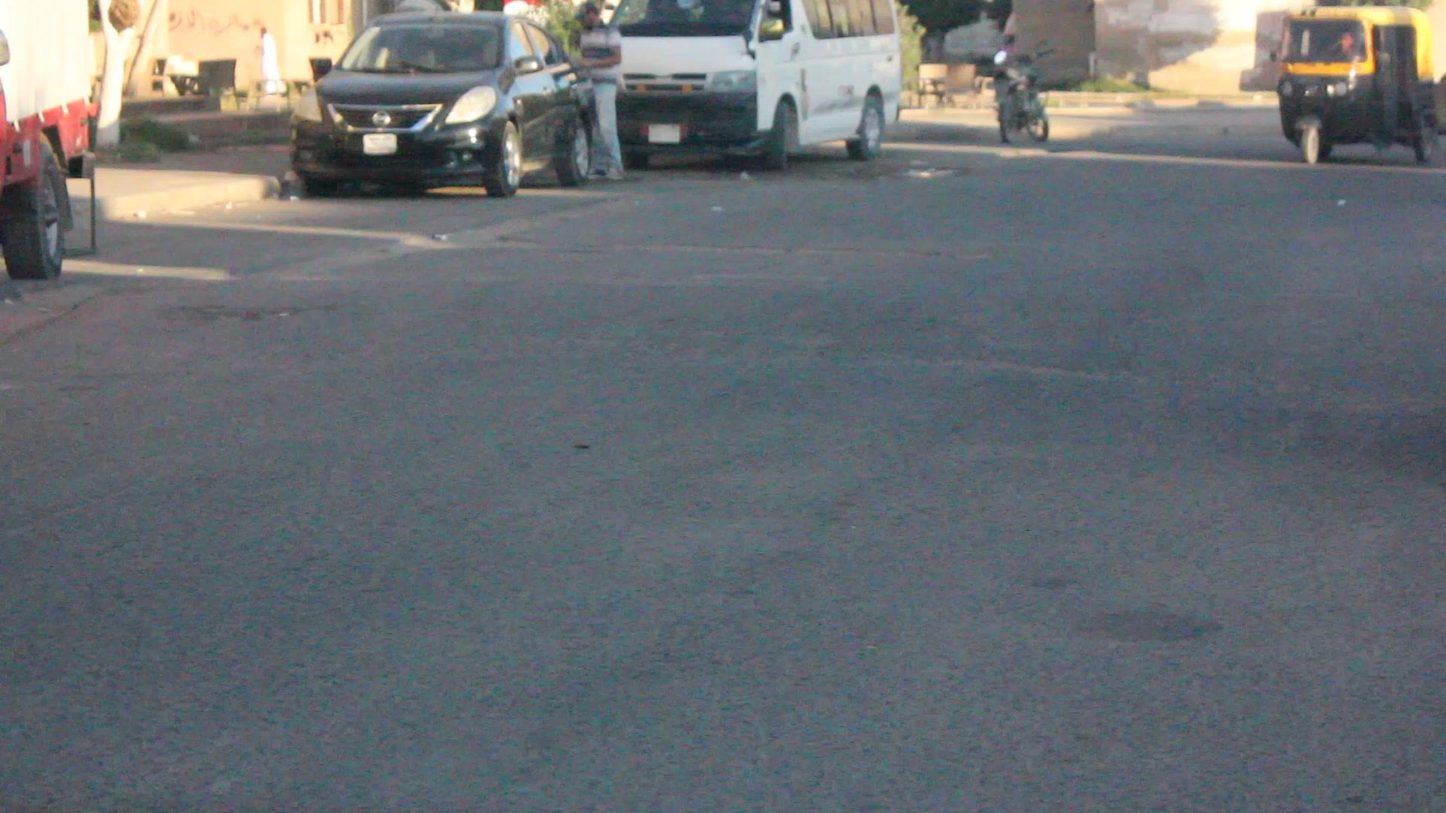Bump: (0, 276, 1445, 402)
